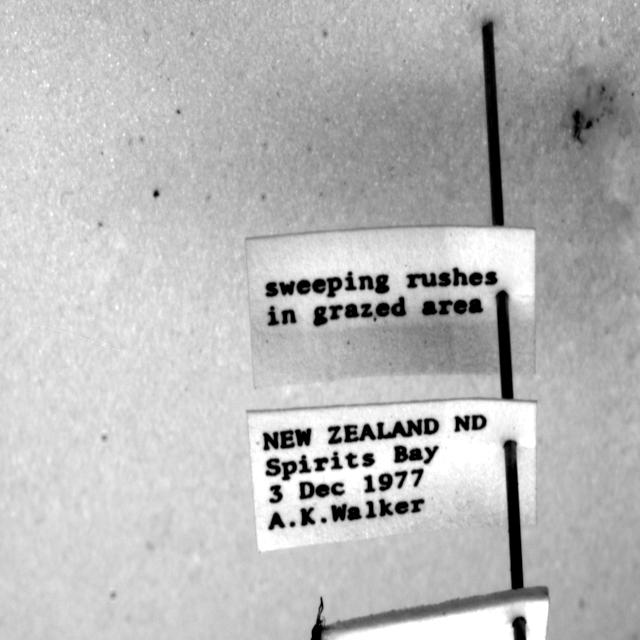typed_label: (246, 227, 535, 386), (248, 399, 536, 551)
